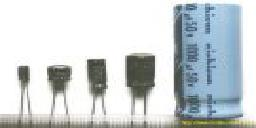Electrolytic-Capacitor: (171, 2, 244, 125), (124, 52, 159, 128), (85, 56, 112, 128), (45, 62, 74, 128), (13, 62, 36, 114)
